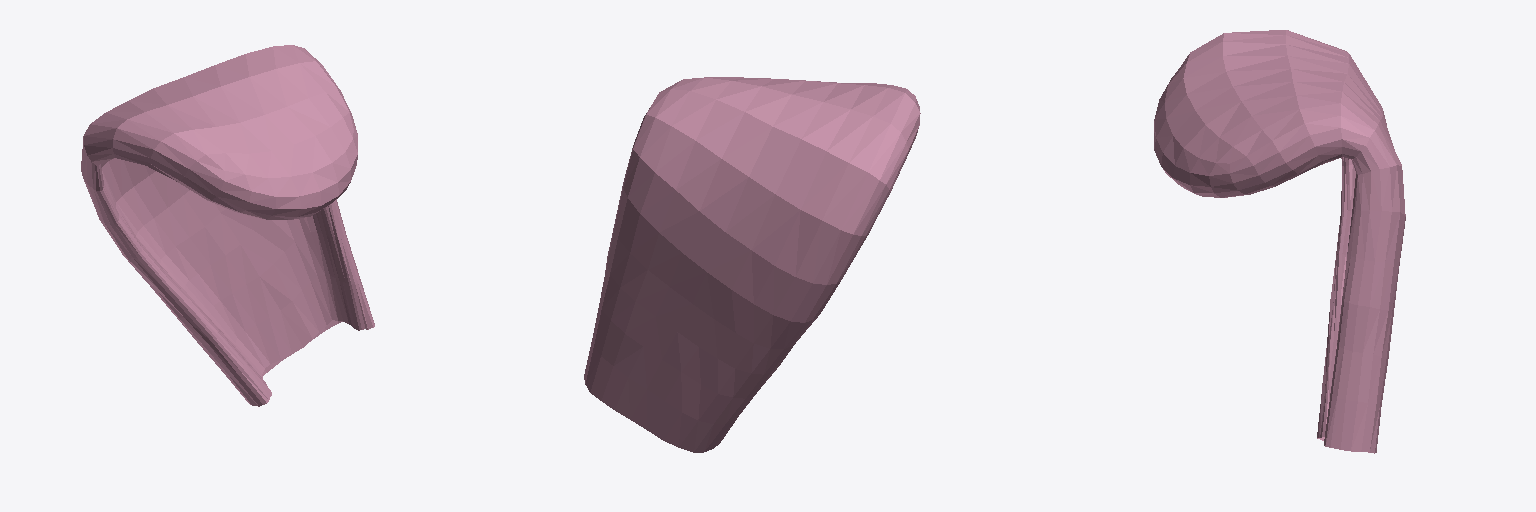
File: oreille_gauche.obj
3 renders of one model, left to right at view 1: azimuth 30°, elevation 25°; view 2: azimuth 150°, elevation 25°; view 3: azimuth 270°, elevation 25°, orthographic.
Visible parts, largest first — view 1: Tete; view 2: Tete; view 3: Tete.
Boxes of the visible parts, x1=… form: Tete: x1=81, y1=45, x2=374, y2=406; Tete: x1=584, y1=77, x2=920, y2=452; Tete: x1=1154, y1=30, x2=1405, y2=453.
Bounding box in the file's own units: 1.96 × 2.27 × 1.47.